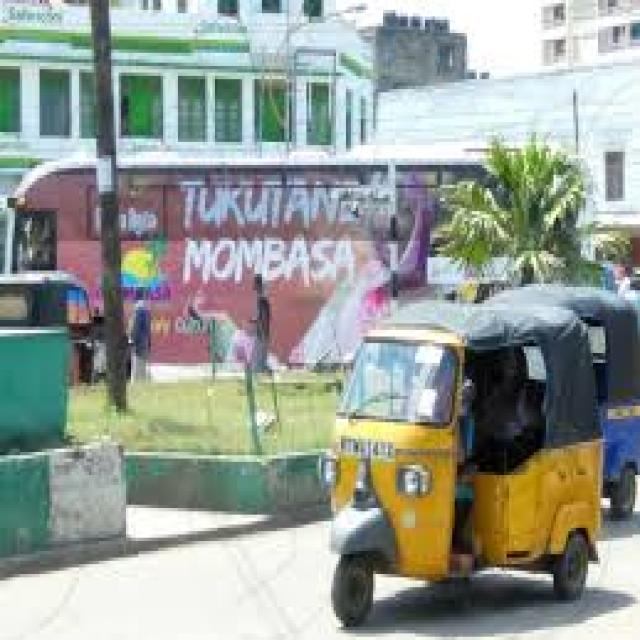tuktuk: (284, 244, 628, 640)
